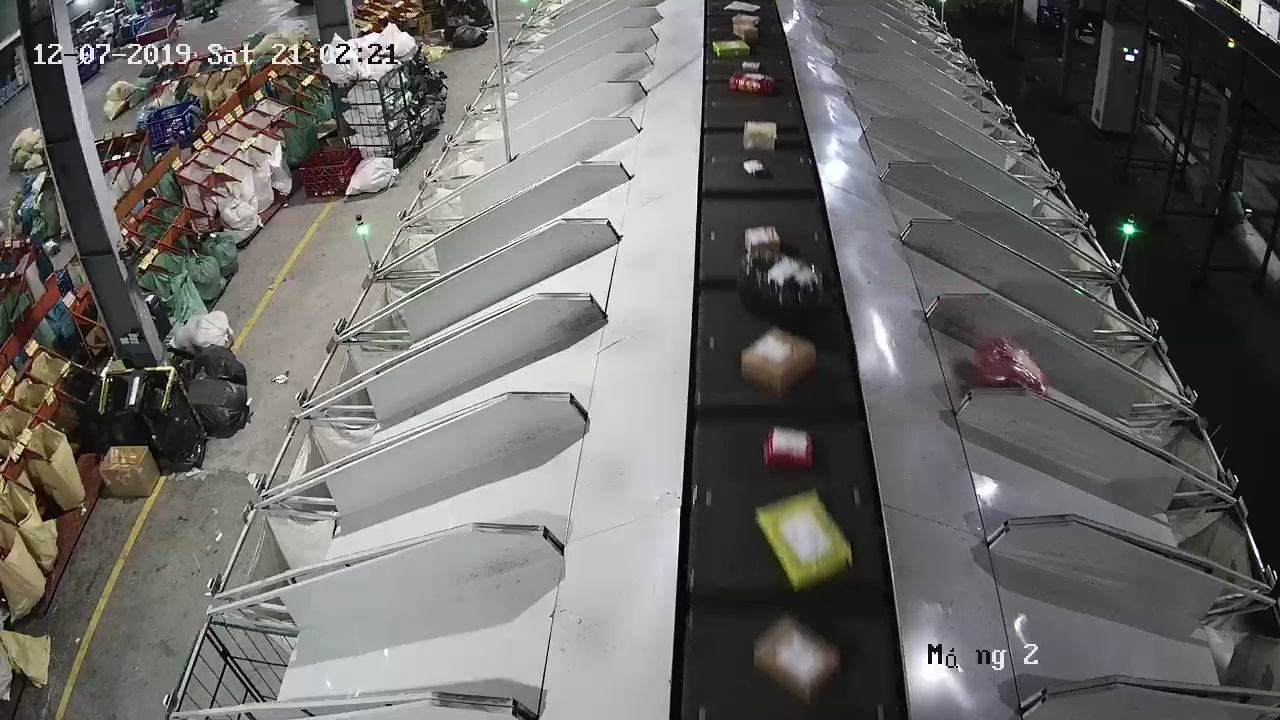parcel: (974, 335, 1048, 389)
